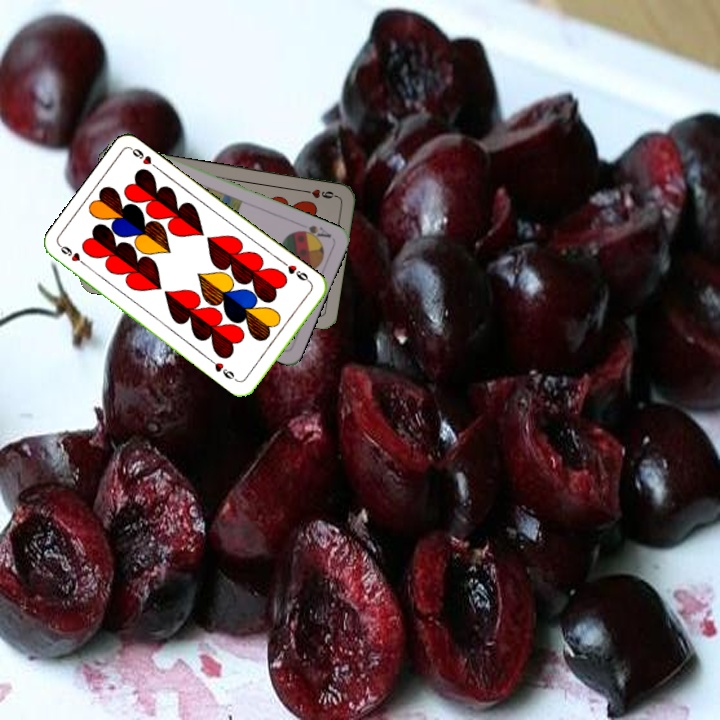H9: (279, 257, 314, 286), (56, 241, 91, 270), (299, 185, 340, 201)
SA: (293, 221, 334, 243)
